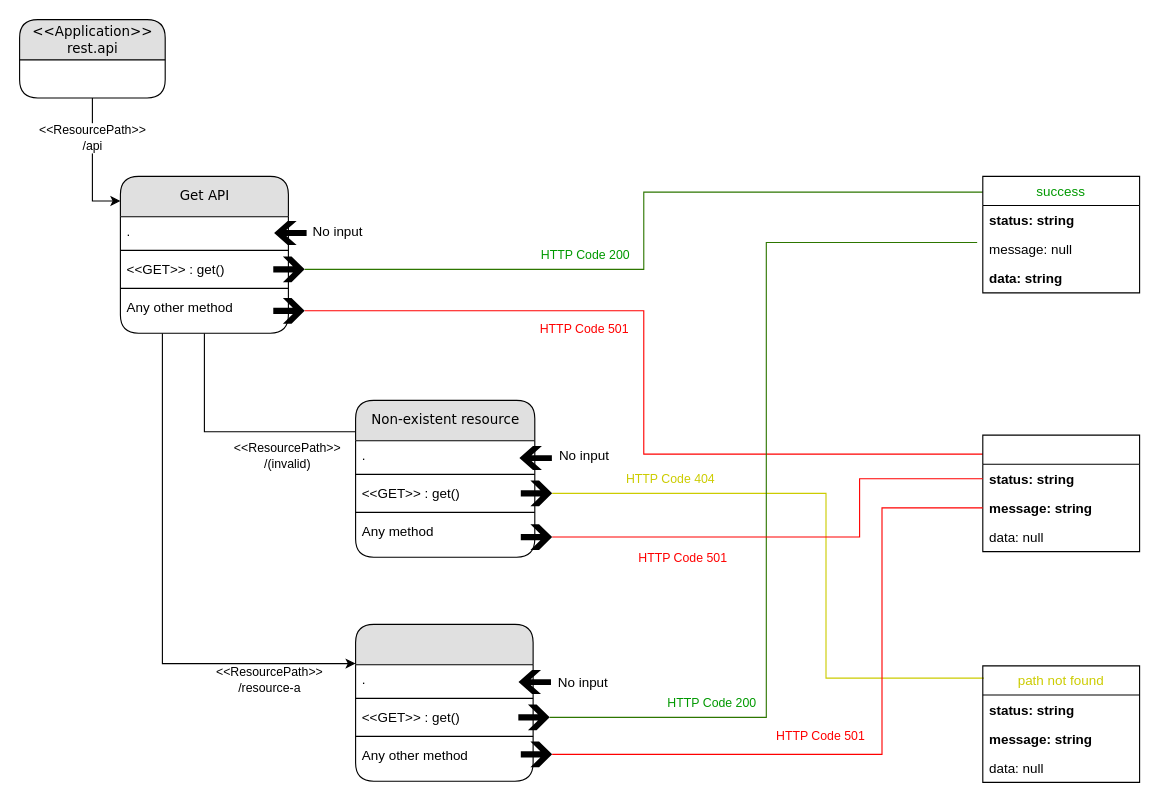
Some shapes in this 1159 by 805 pixel diagram are drawn without their labels. The shapes that lost their labels are listed below. From the top down, each one's box as (x1, y1, x2, y2) in pixels, then its label:
(982, 434, 1140, 552): not implemented
(354, 623, 533, 781): Get Resource A
